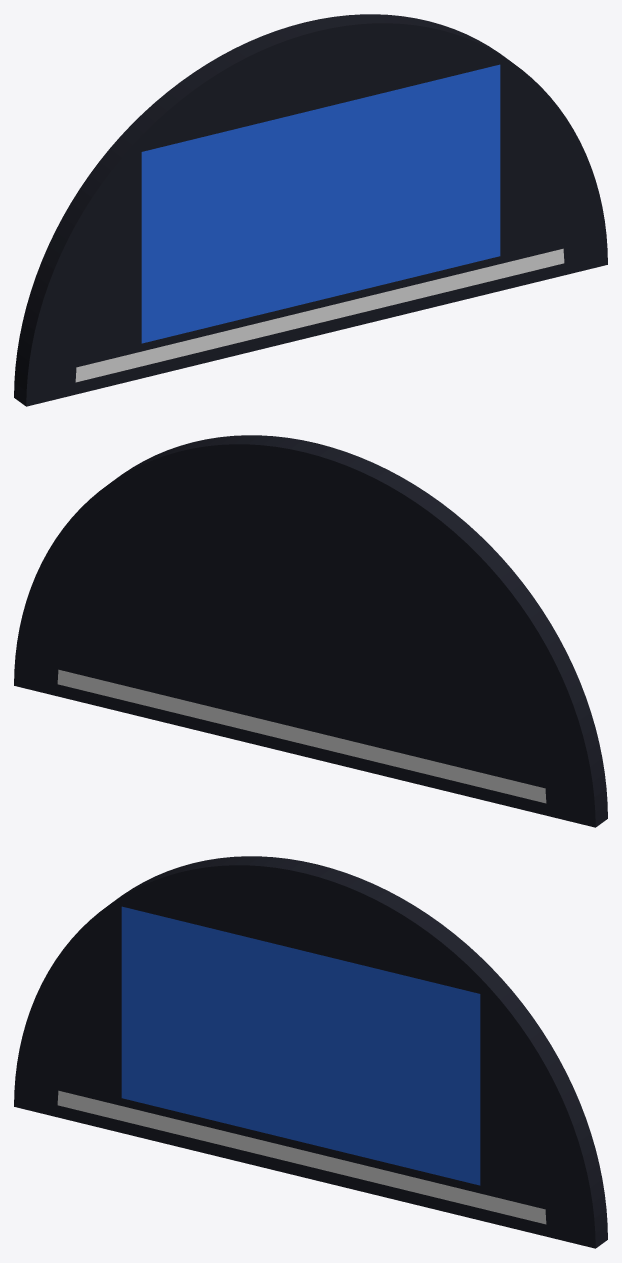
File: LD50-Obstacle-Wall-Half-01.glb
3 renders of one model, top to bottom at view 1: azimuth 30°, elevation 25°; view 2: azimuth 150°, elevation 25°; view 3: azimuth 330°, elevation 25°, orthographic.
Visible parts, largest first — view 1: Obstacle-Wall-Half-01, Obstacle-Wall-Half-01-CM; view 2: Obstacle-Wall-Half-01; view 3: Obstacle-Wall-Half-01, Obstacle-Wall-Half-01-CM.
Part boxes in pixels (x1,y1,x2,y2): Obstacle-Wall-Half-01: (14, 14, 607, 406); Obstacle-Wall-Half-01-CM: (141, 64, 500, 343); Obstacle-Wall-Half-01: (14, 435, 607, 827); Obstacle-Wall-Half-01: (14, 856, 607, 1248); Obstacle-Wall-Half-01-CM: (121, 906, 480, 1185).
Bounding box in the file's own units: 30 × 15 × 1.7.
Materials: 3 (1 with a texture image).
